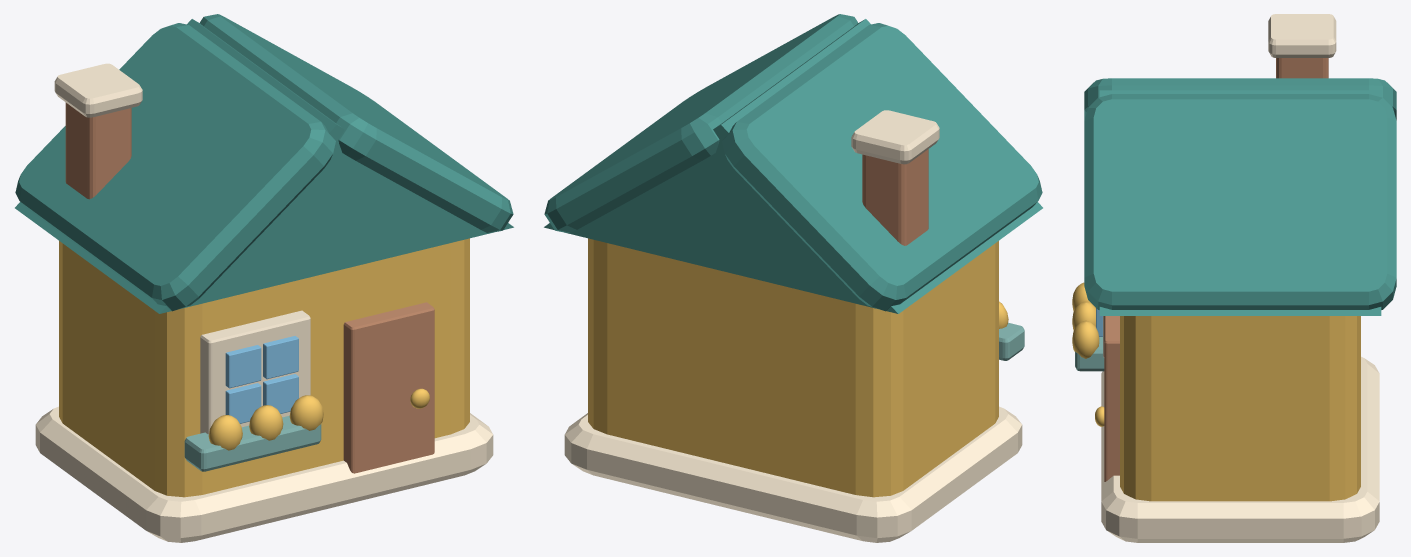
File: starter_house.glb
3 views of the same model, side by side, from view 1: azimuth 30°, elevation 25°; view 2: azimuth 150°, elevation 25°; view 3: azimuth 270°, elevation 25° (orthographic). The views are drawn at different scales.
Visible parts, largest first — view 1: roof, walls, model, foundation, door, window_frame; view 2: walls, roof, model, foundation; view 3: roof, walls, foundation, model, door.
Boxes of the visible parts, x1,y1,x2,y2 form: roof: [15, 14, 513, 311]; walls: [59, 238, 469, 497]; model: [15, 19, 513, 471]; foundation: [35, 406, 493, 542]; door: [343, 302, 434, 473]; window_frame: [200, 310, 310, 434]; walls: [588, 238, 998, 497]; roof: [544, 14, 1042, 311]; model: [544, 19, 1042, 360]; foundation: [564, 406, 1022, 542]; roof: [1084, 78, 1396, 309]; walls: [1120, 316, 1360, 501]; foundation: [1101, 356, 1379, 542]; model: [1072, 14, 1381, 426]; door: [1104, 316, 1119, 481].
Size of the model in its own units: 2.1 by 2.2 by 1.7.
